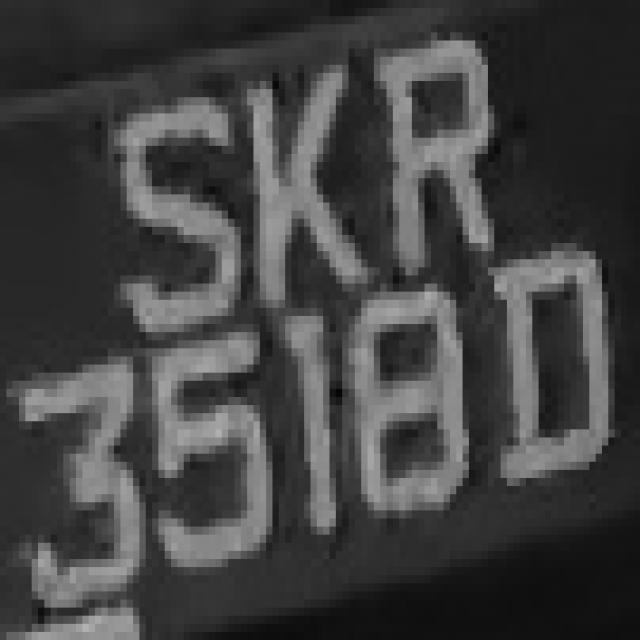1: (273, 308, 361, 559)
3: (13, 340, 152, 616)
5: (133, 332, 285, 592)
8: (323, 243, 482, 559)
D: (488, 243, 627, 510)
K: (216, 40, 361, 316)
R: (368, 41, 513, 276)
S: (89, 89, 241, 340)
